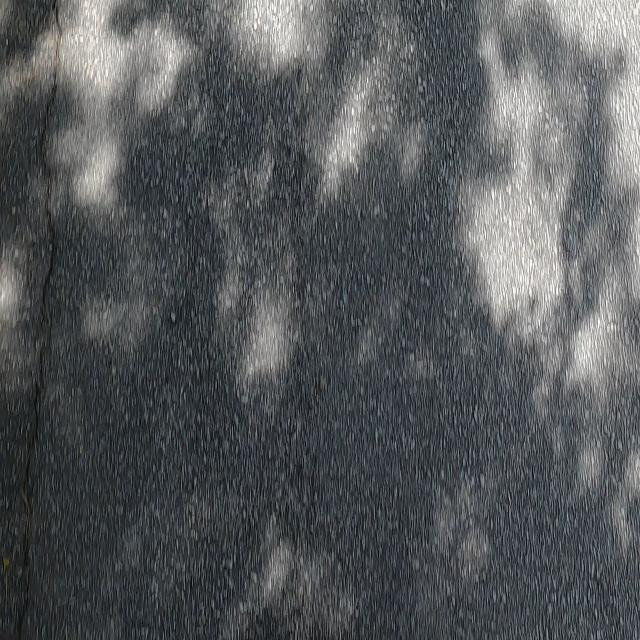Retak-Memanjang: (10, 5, 68, 640)
